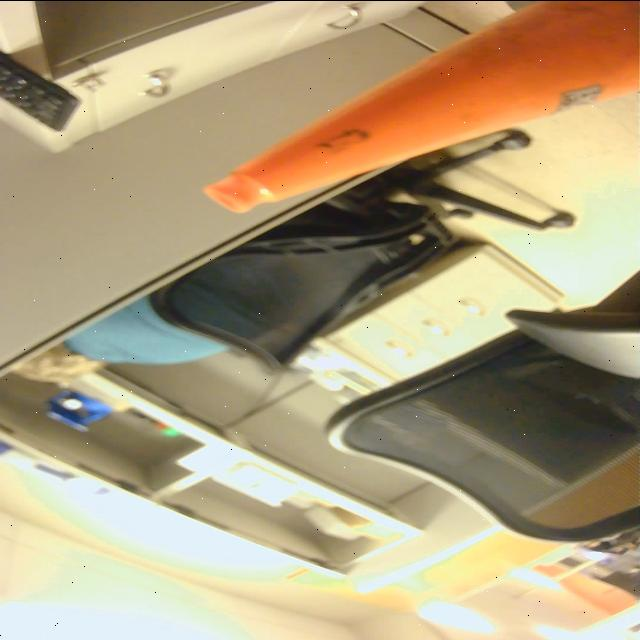traffic cone: (195, 1, 640, 219)
